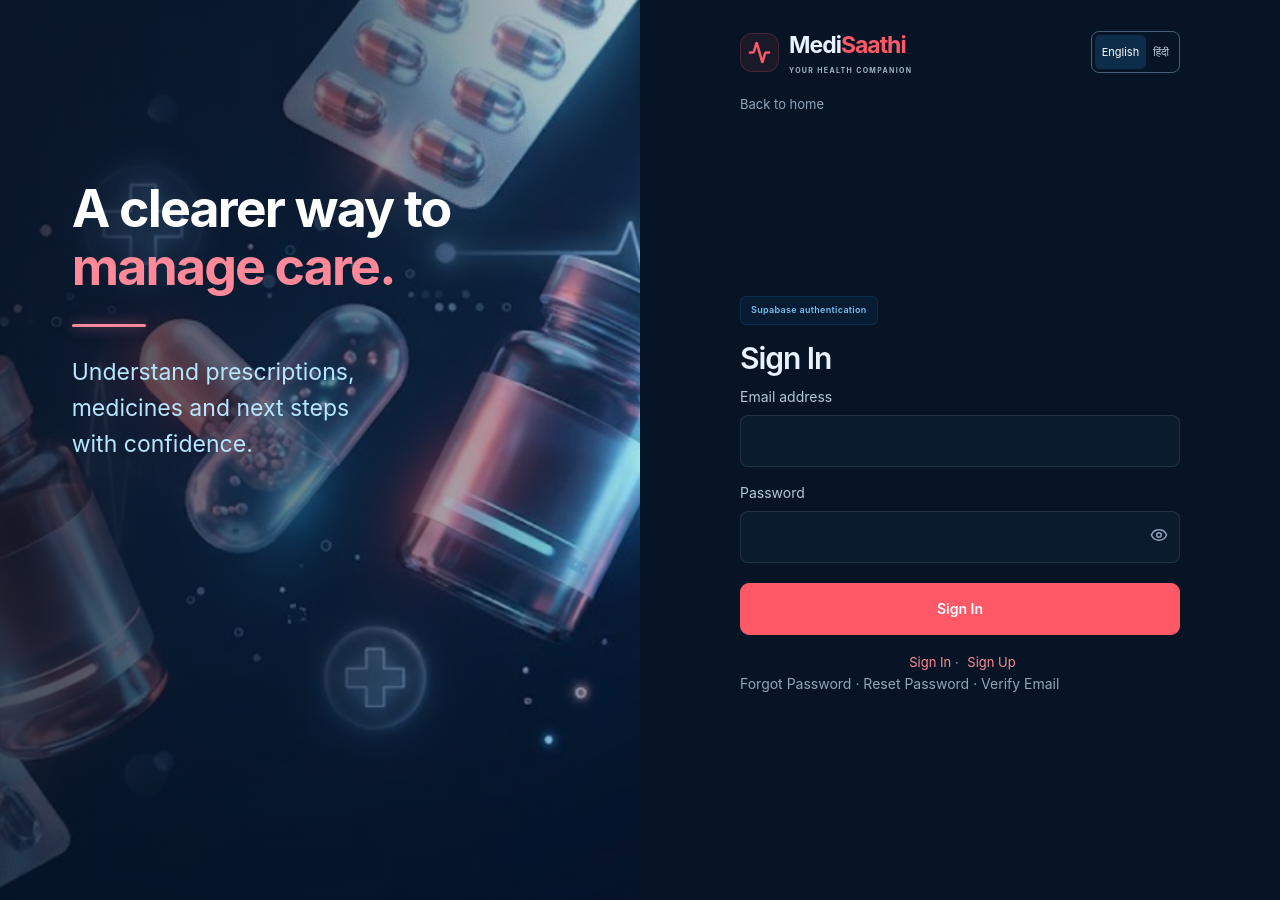
Test: shows login failure without success or redirect
The width and height of the screenshot is (1280, 900).
Step 1. Type "fictional@example.test" into the field labelled "Email address" → coordinates (960, 441), box [740,415,1180,467]
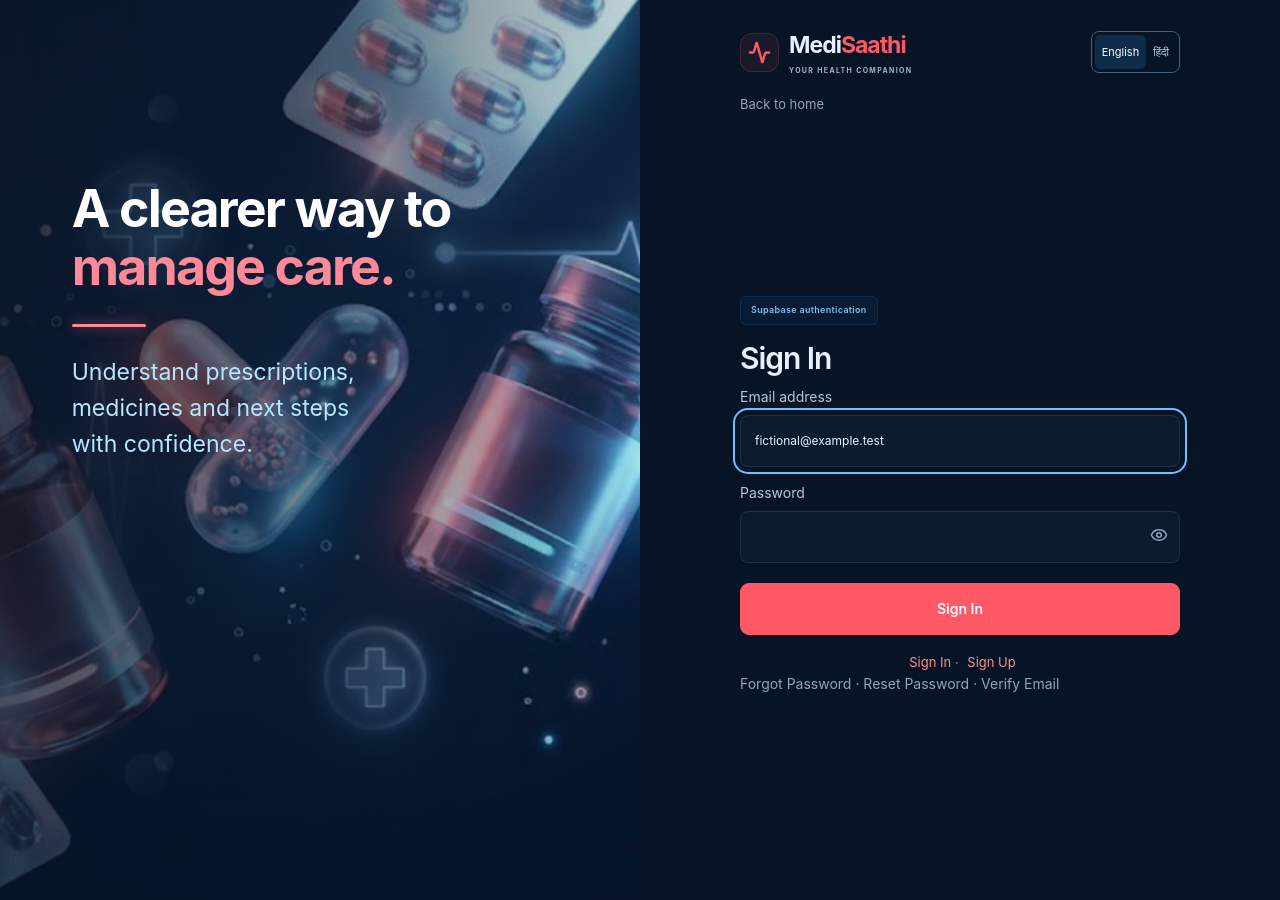
Step 2. Type "wrong" into the password field labelled "Password" → coordinates (960, 537), box [740,511,1180,563]
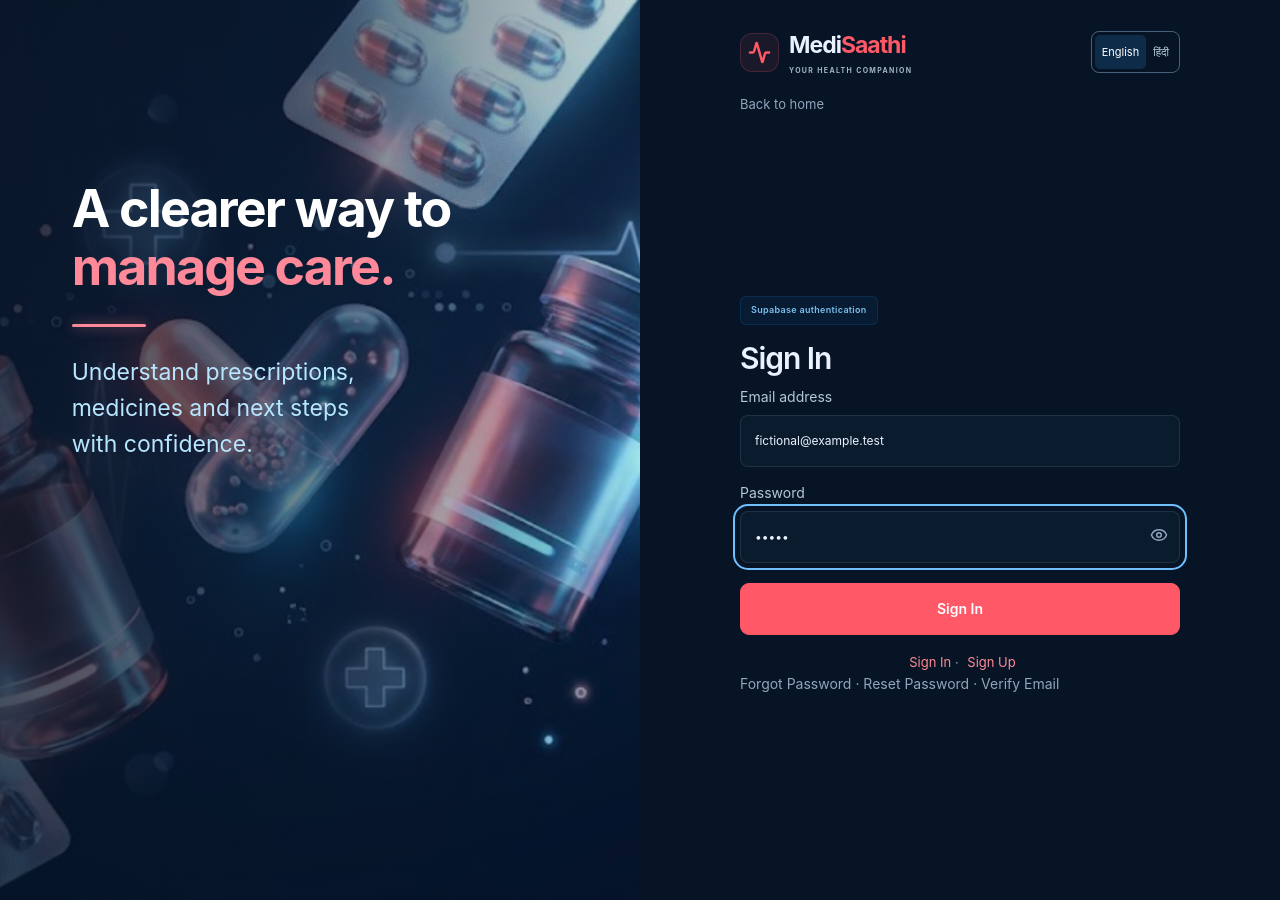
Step 3. Click the button "Sign In" → coordinates (960, 609), box [740,583,1180,635]
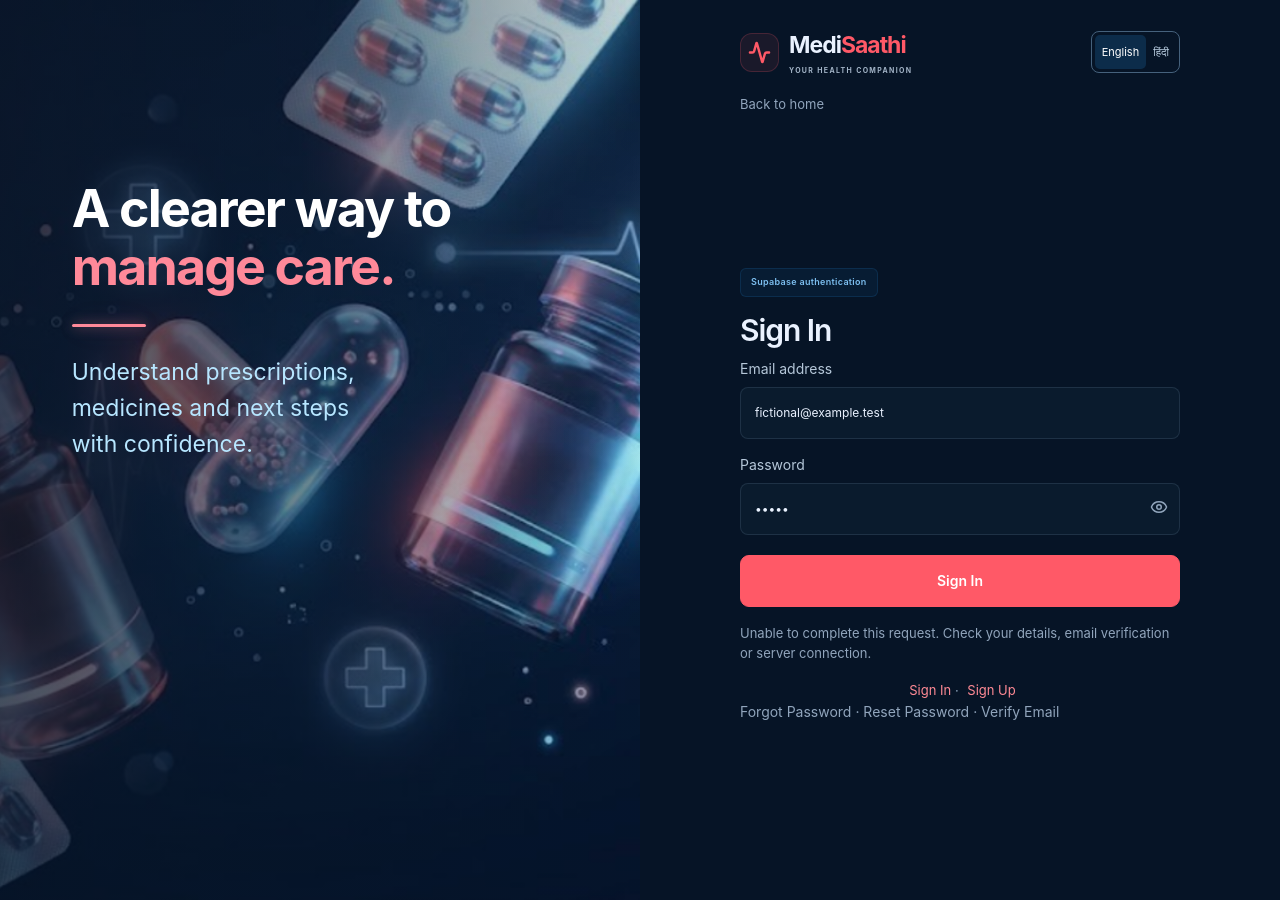
Expected: the message is shown, [740,623,1180,663]
